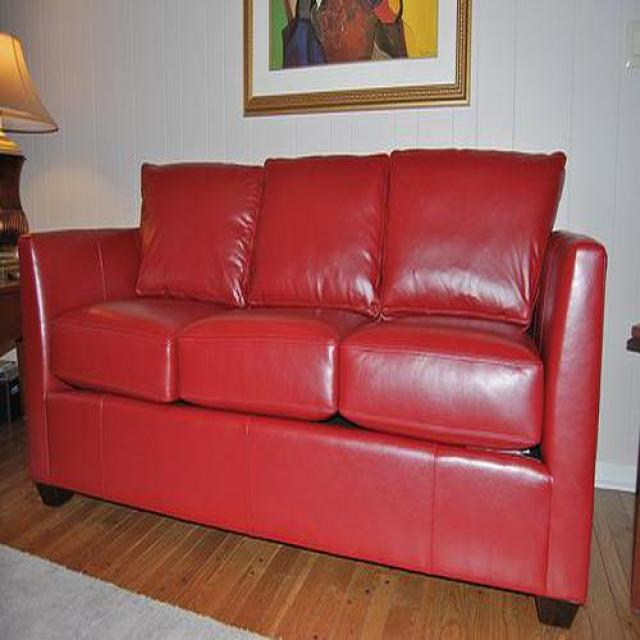sofa: (19, 150, 608, 627)
